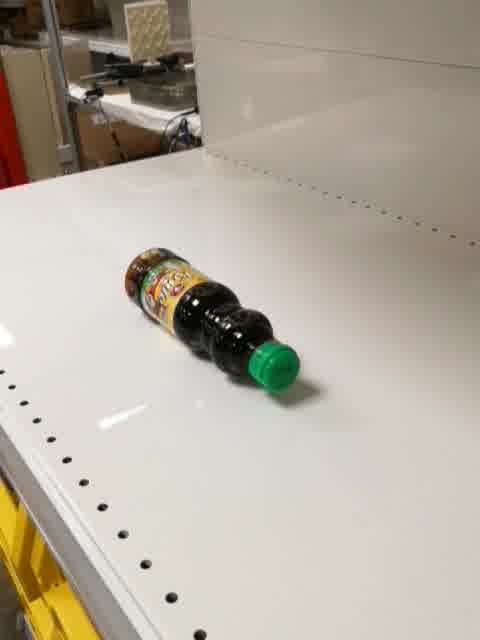cookingoil: (121, 244, 303, 395)
